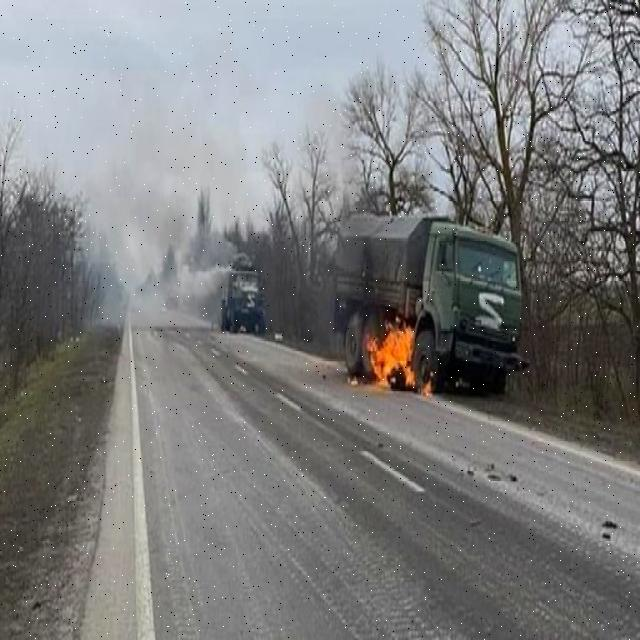TRUCK: (334, 200, 534, 418), (216, 244, 270, 340)
